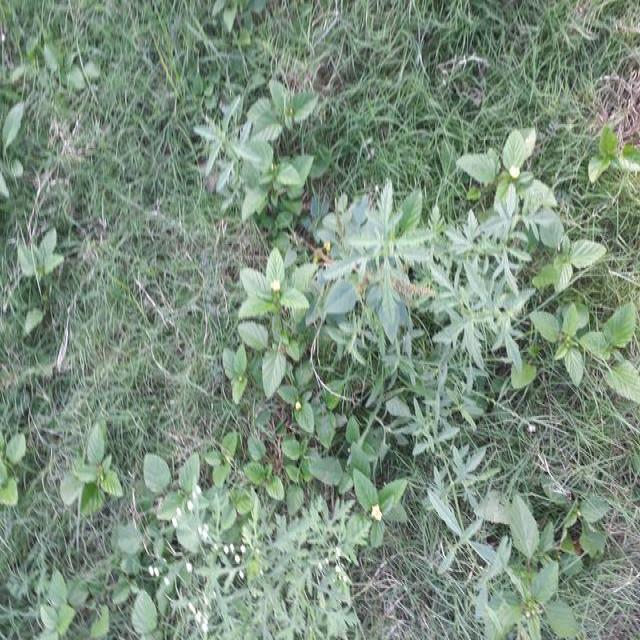weed: (13, 0, 237, 435), (280, 12, 640, 161)
